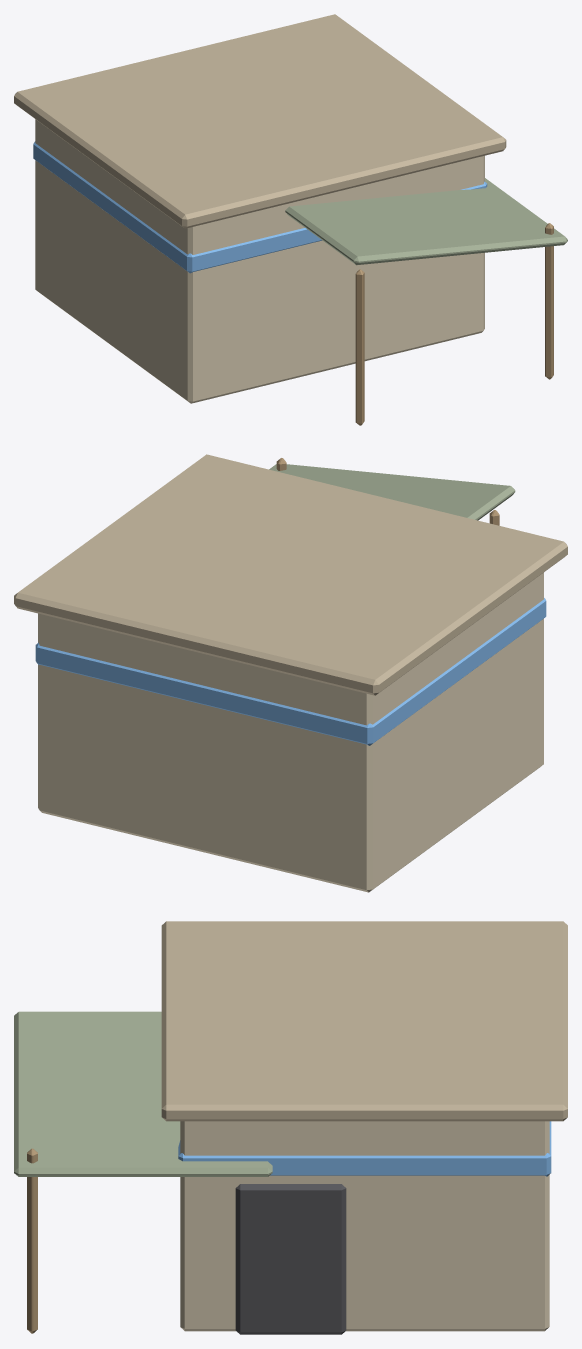
Rendered from safehouse.glb.
3 renders of one model, top to bottom at view 1: azimuth 30°, elevation 25°; view 2: azimuth 150°, elevation 25°; view 3: azimuth 270°, elevation 25°, orthographic. The views are drawn at different scales.
Parts seen in each view (by area): view 1: safehouse; view 2: safehouse; view 3: safehouse.
Part boxes in pixels (x1=…): safehouse: x1=14, y1=14, x2=567, y2=425; safehouse: x1=14, y1=454, x2=567, y2=892; safehouse: x1=14, y1=921, x2=567, y2=1334.
Bounding box in the file's own units: 2.4 × 1.4 × 3.
